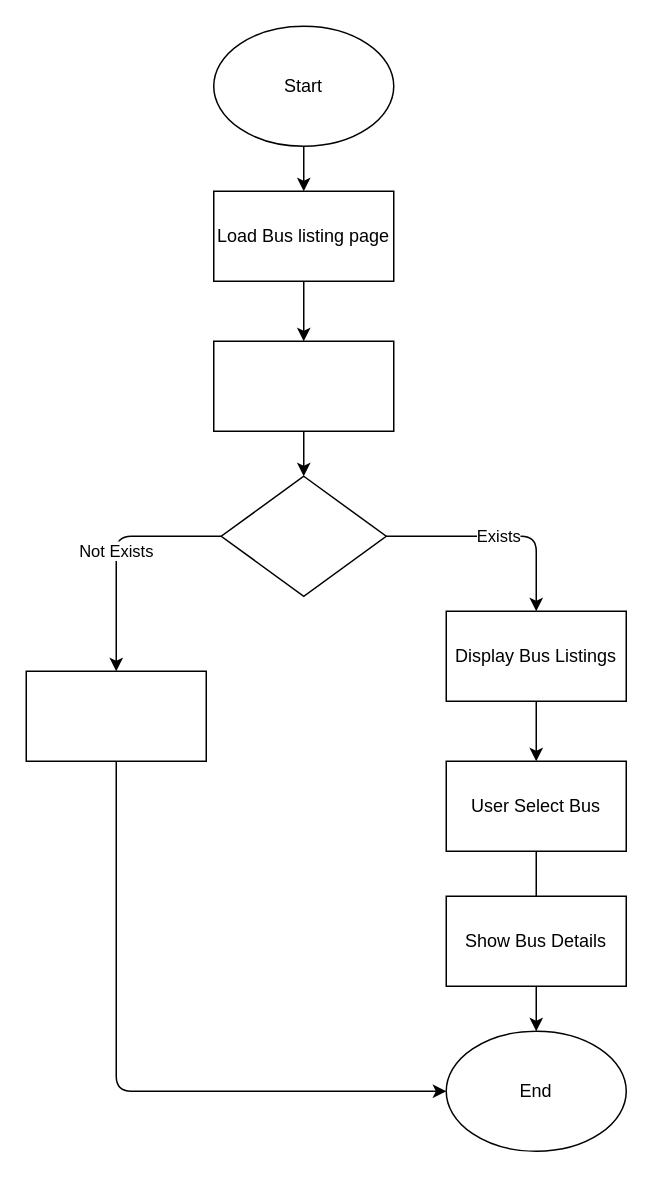
Image size: 653x1178. Some labels were removed from this diagram. Here are the shapes that lost their labels. From the top down, the centre of each, then its label:
At point 303,385: "Fill Your Location And Date".
At point 303,535: "Retrive Bus Details".
At point 115,715: "Display Bus Not Found".
